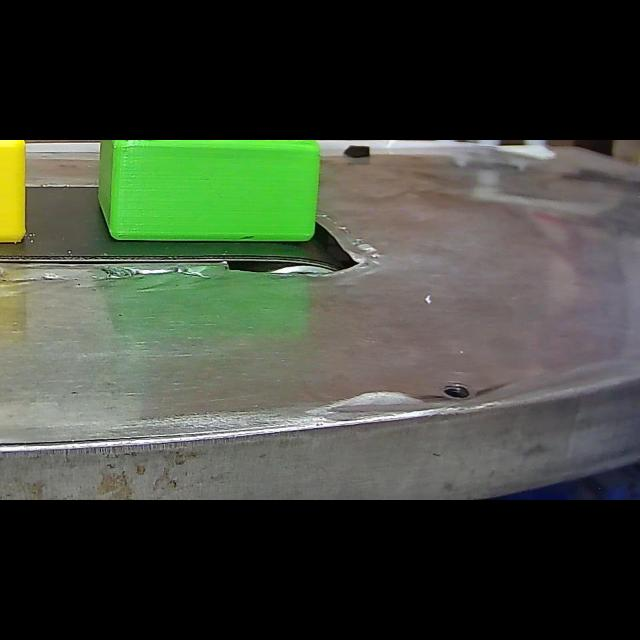greenBox: (99, 140, 324, 246)
yellowBox: (0, 140, 32, 248)
